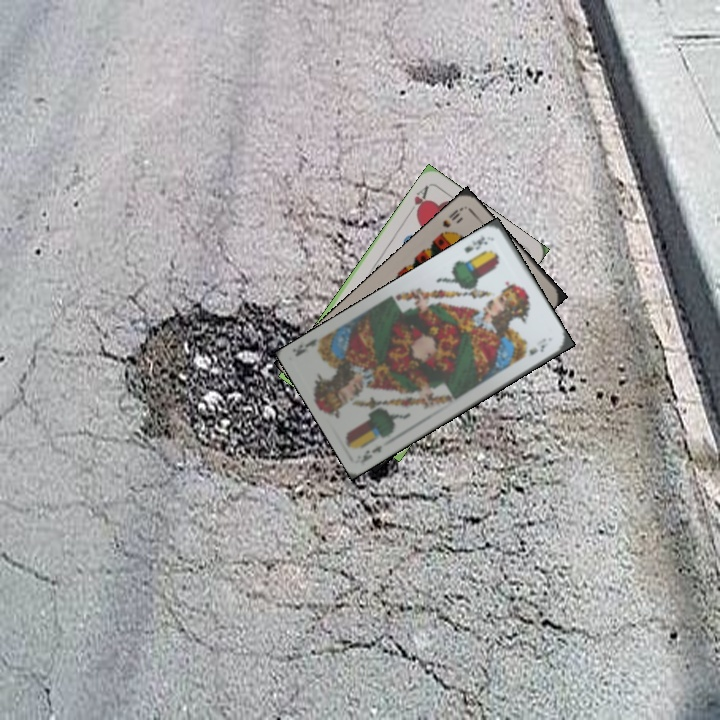EK: (460, 232, 490, 256), (358, 441, 385, 466)
HA: (404, 181, 431, 218)
S10: (435, 204, 465, 239)
